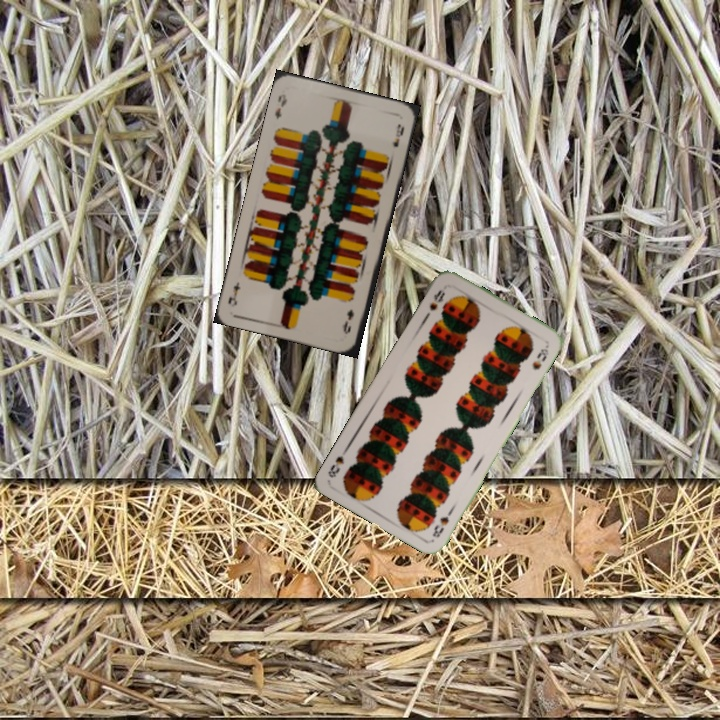E9: (271, 90, 290, 122), (339, 305, 357, 337)
S8: (428, 505, 456, 540), (425, 286, 448, 313)
